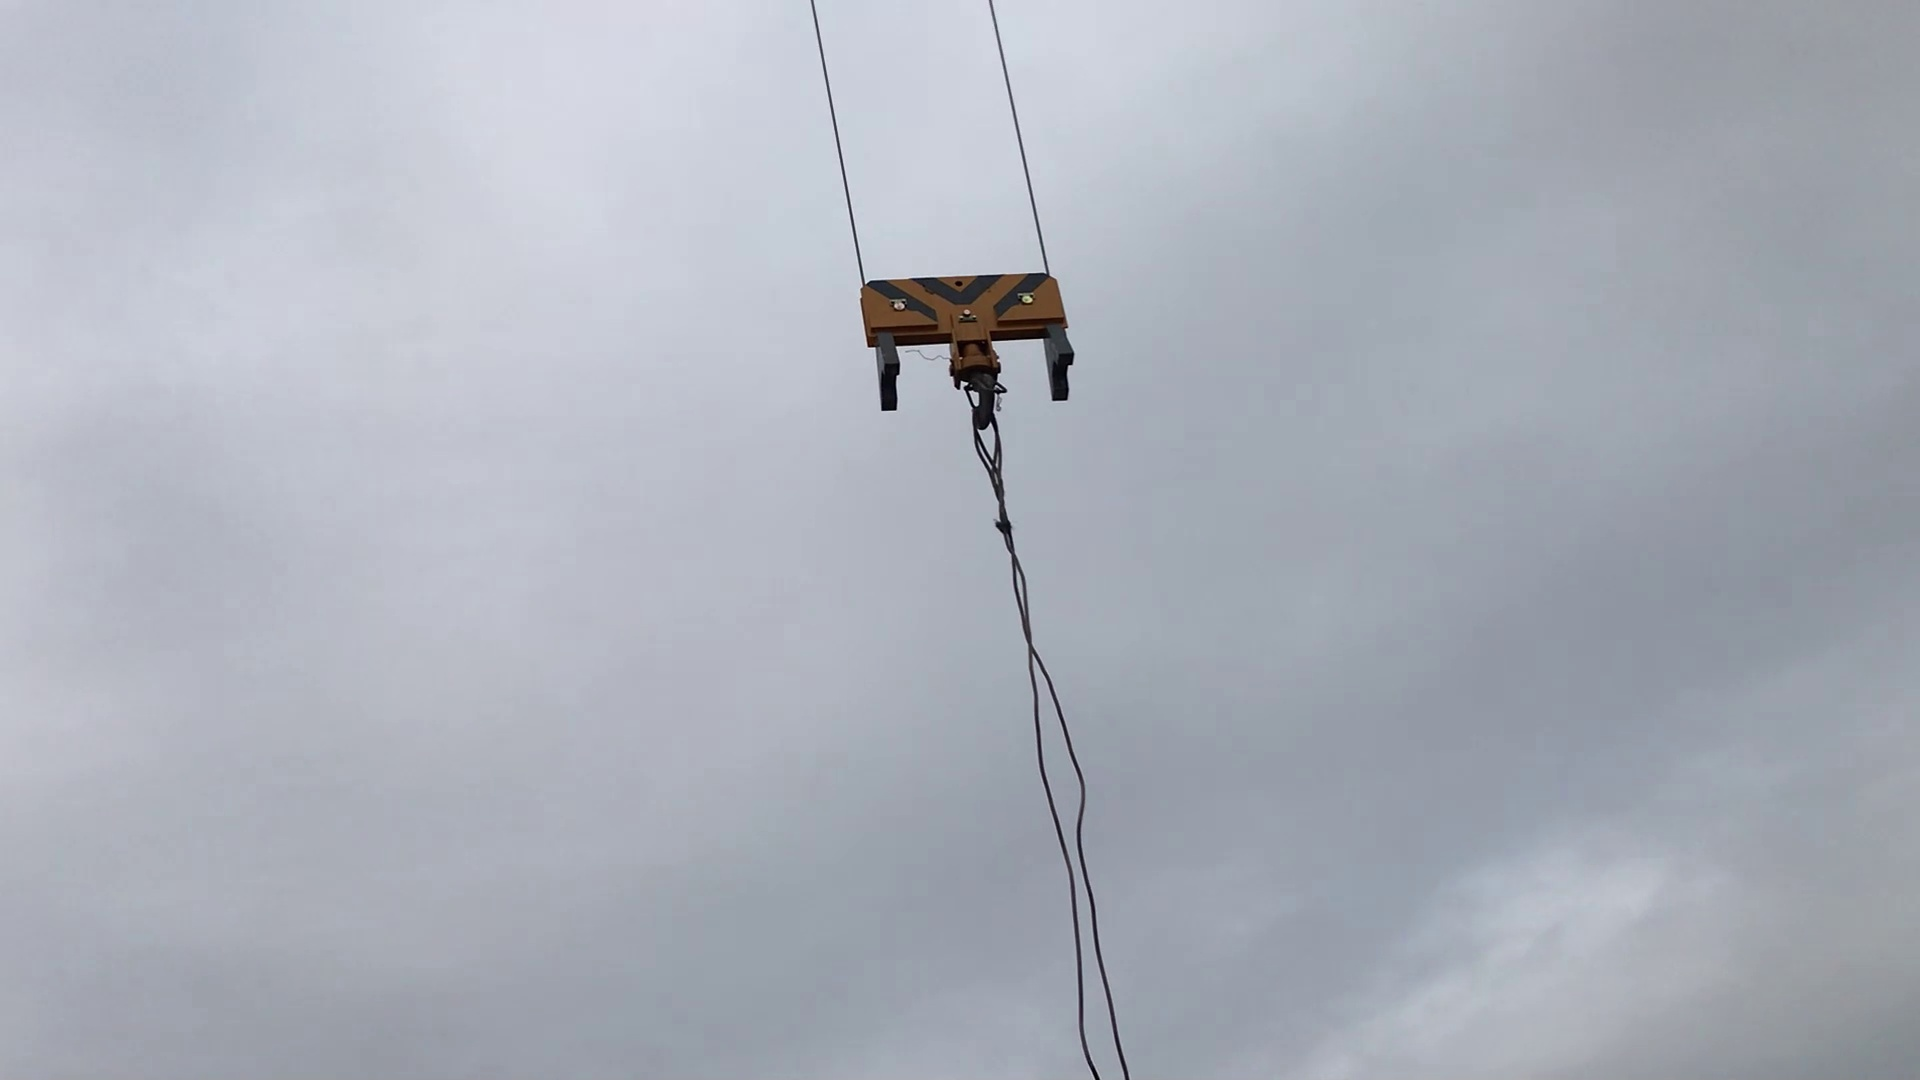hook: (843, 256, 1127, 484)
